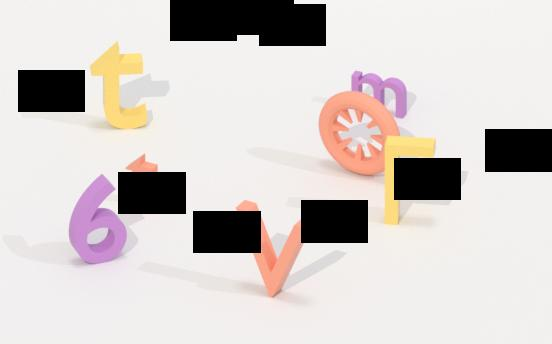6: (62, 175, 135, 267)
F: (380, 132, 445, 230)
m: (347, 67, 410, 118)
t: (84, 44, 159, 132), (123, 150, 166, 210)
tron: (312, 92, 406, 173)
v: (231, 202, 320, 301)
